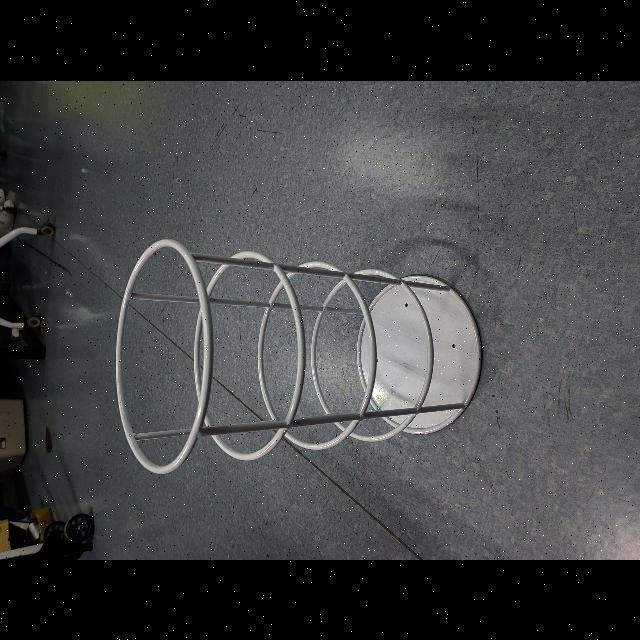S: (110, 235, 486, 478)
